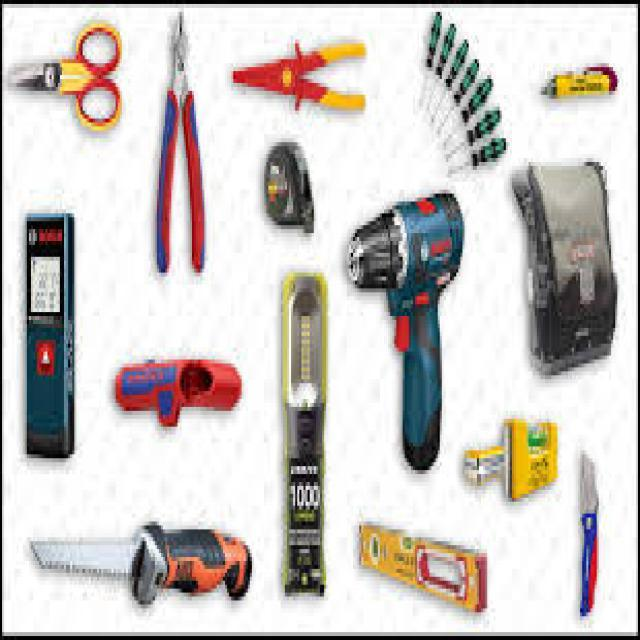drill: (342, 176, 468, 487)
pliers: (150, 0, 213, 281), (224, 26, 372, 131)
